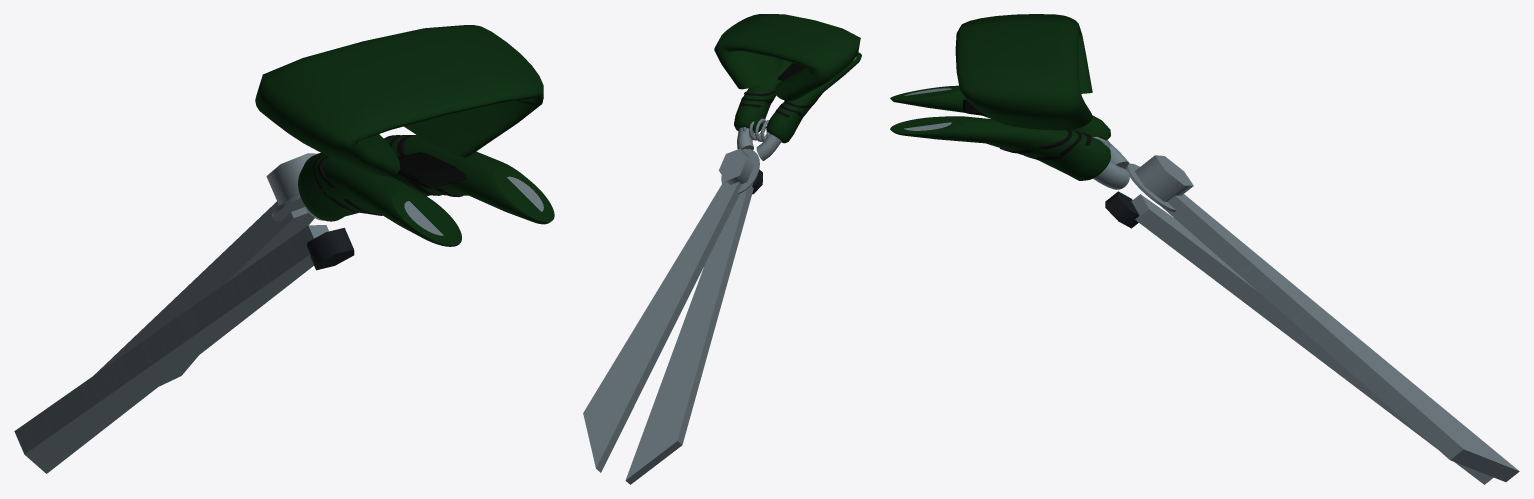
Rendered from GardenShears.gltf.
The picture shows the model from 3 angles, left to right: view 1: azimuth 30°, elevation 25°; view 2: azimuth 150°, elevation 25°; view 3: azimuth 270°, elevation 25°; orthographic projection. The views are drawn at different scales.
Visible parts, largest first — view 1: GardenShears__Body; view 2: GardenShears__Body; view 3: GardenShears__Body.
Part boxes in pixels (x1=…): GardenShears__Body: x1=14, y1=25, x2=554, y2=473; GardenShears__Body: x1=583, y1=14, x2=861, y2=484; GardenShears__Body: x1=890, y1=14, x2=1519, y2=484.
Bounding box in the file's own units: 0.1383 × 0.3637 × 0.4624.
Materials: 1 (1 with a texture image).
